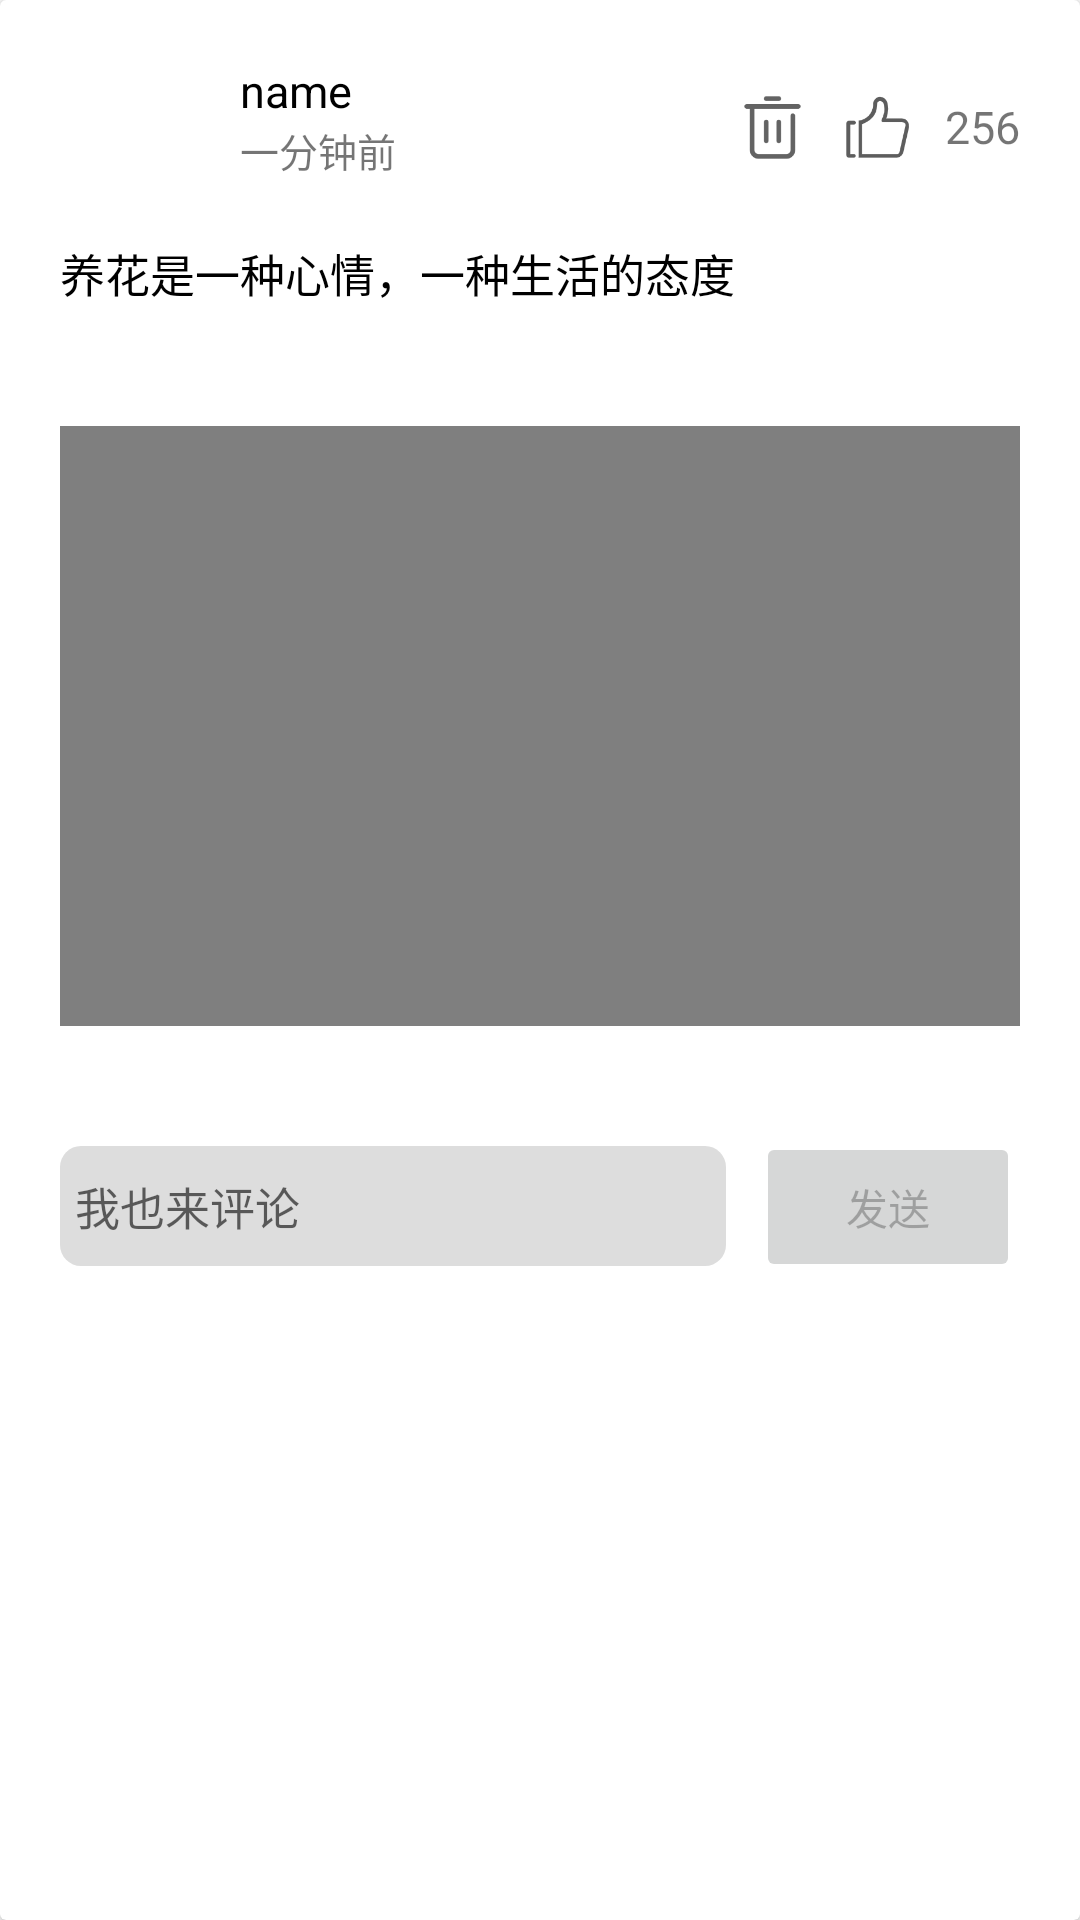

Point at icon controls on the screen. Image size 1080w x 1920h, points as point (x, y).
delete: point (772, 127)
like un: point (877, 127)
